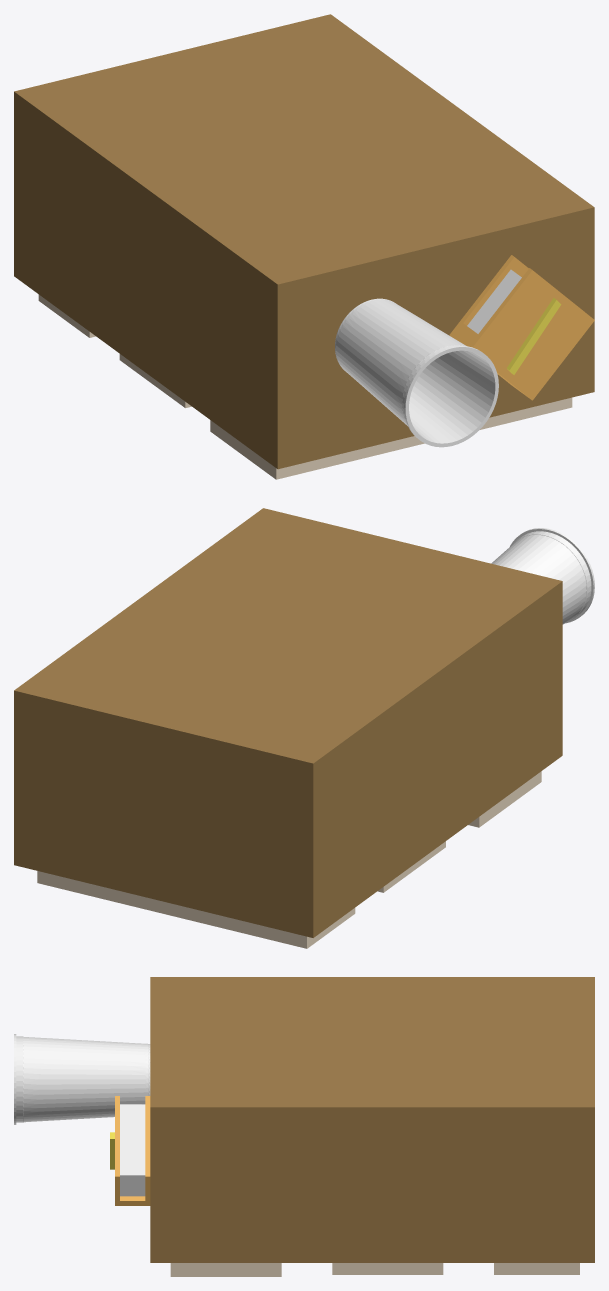
Rendered from tinker.gltf.
3 renders of one model, top to bottom at view 1: azimuth 30°, elevation 25°; view 2: azimuth 150°, elevation 25°; view 3: azimuth 270°, elevation 25°, orthographic. The views are drawn at different scales.
Visible parts, largest first — view 1: group_0_6306067, group_0_16448250, group_0_16089887, group_0_14860437, group_0_16768282; view 2: group_0_6306067, group_0_14860437, group_0_16448250; view 3: group_0_6306067, group_0_16448250, group_0_14860437, group_0_16089887.
Part boxes in pixels (left/top/right/bottom): group_0_6306067: left=14, top=14, right=594, bottom=469; group_0_16448250: left=335, top=269, right=521, bottom=447; group_0_16089887: left=449, top=255, right=594, bottom=400; group_0_14860437: left=38, top=294, right=572, bottom=479; group_0_16768282: left=506, top=298, right=561, bottom=374; group_0_6306067: left=14, top=508, right=562, bottom=937; group_0_14860437: left=37, top=771, right=541, bottom=948; group_0_16448250: left=491, top=528, right=594, bottom=624; group_0_6306067: left=150, top=977, right=594, bottom=1262; group_0_16448250: left=14, top=1034, right=150, bottom=1196; group_0_14860437: left=170, top=1263, right=579, bottom=1276; group_0_16089887: left=115, top=1096, right=150, bottom=1205.
Size of the model in its own units: 61 by 41 by 115.
